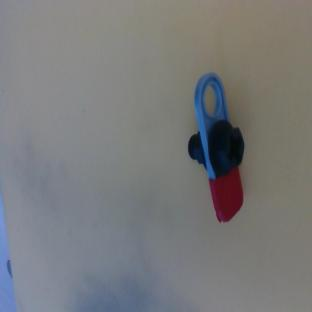part_1_good: (165, 70, 269, 225)
